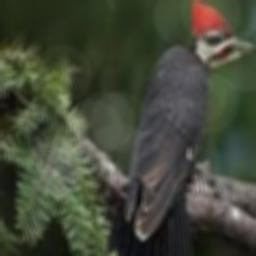Woodpecker: (108, 0, 256, 256)
